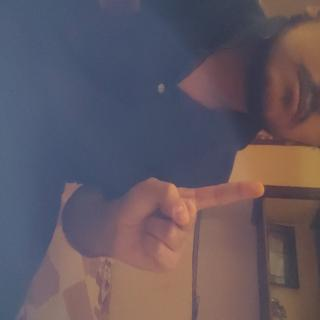BAA: (131, 67, 208, 289)
